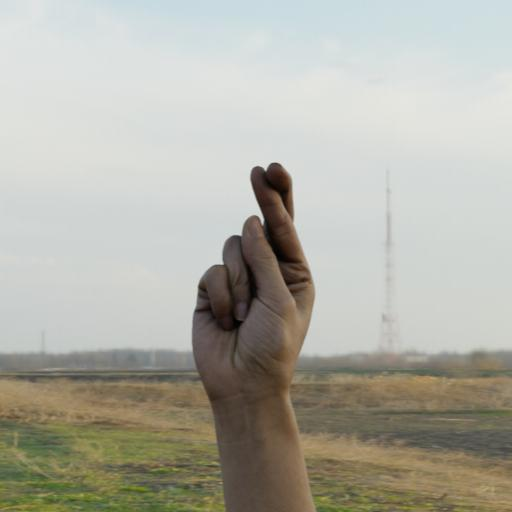R: (170, 160, 331, 426)
